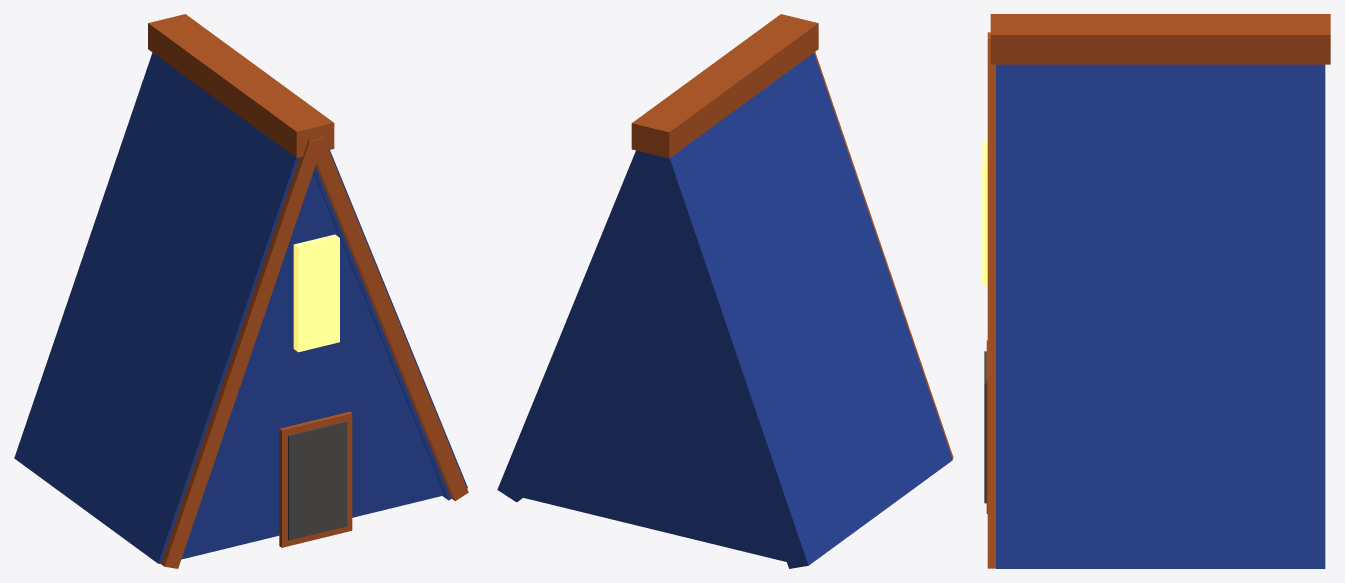
Rendered from aframe_hut_script.glb.
3 renders of one model, left to right at view 1: azimuth 30°, elevation 25°; view 2: azimuth 150°, elevation 25°; view 3: azimuth 270°, elevation 25°, orthographic. The views are drawn at different scales.
Parts seen in each view (by area): view 1: Cube, Cube.002, Cube.003, Cube.004, Cube.005, Cube.007, Cube.008, Cube.006, Cube.001; view 2: Cube, Cube.002, Cube.003, Cube.001, Cube.004; view 3: Cube.001, Cube.003, Cube.005, Cube.008, Cube.007.
Boxes of the visible parts, x1=… form: Cube: x1=14, y1=52, x2=299, y2=563; Cube.002: x1=181, y1=173, x2=443, y2=559; Cube.003: x1=148, y1=14, x2=334, y2=157; Cube.004: x1=161, y1=139, x2=323, y2=568; Cube.005: x1=311, y1=136, x2=468, y2=501; Cube.007: x1=288, y1=421, x2=347, y2=540; Cube.008: x1=293, y1=234, x2=339, y2=352; Cube.006: x1=279, y1=411, x2=352, y2=547; Cube.001: x1=313, y1=150, x2=467, y2=500; Cube: x1=647, y1=53, x2=952, y2=568; Cube.002: x1=522, y1=172, x2=786, y2=561; Cube.003: x1=631, y1=14, x2=818, y2=158; Cube.001: x1=497, y1=150, x2=657, y2=502; Cube.004: x1=814, y1=52, x2=953, y2=458; Cube.001: x1=996, y1=64, x2=1325, y2=568; Cube.003: x1=990, y1=14, x2=1330, y2=64; Cube.005: x1=987, y1=39, x2=995, y2=568; Cube.008: x1=982, y1=142, x2=987, y2=284; Cube.007: x1=984, y1=351, x2=986, y2=503.
Size of the model in its own units: 7.47 by 9.45 by 6.35.
